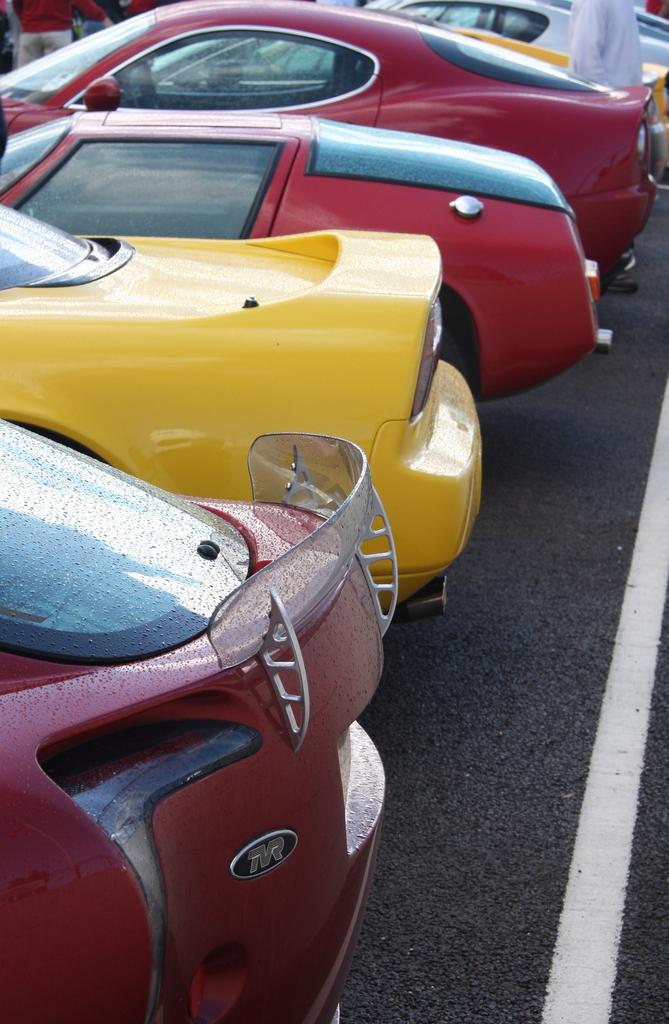Car: (0, 416, 401, 1023), (0, 197, 485, 608), (0, 0, 656, 293), (0, 108, 620, 407), (364, 1, 668, 90)
